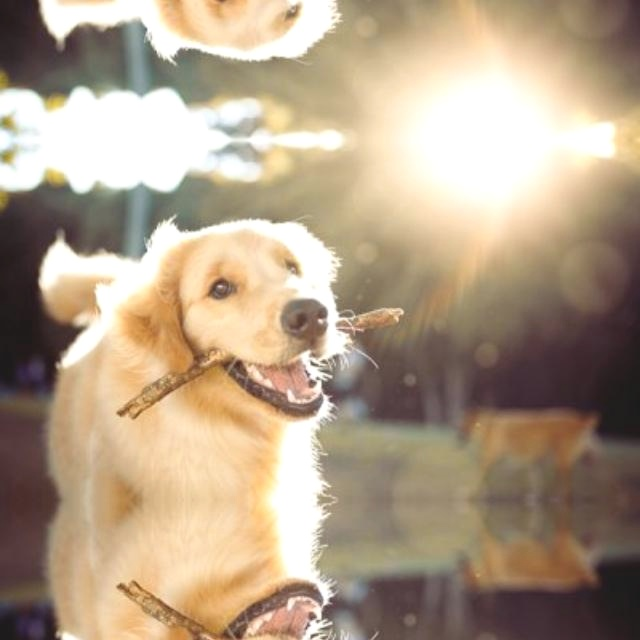dog: (151, 205, 383, 420), (151, 0, 383, 75), (151, 580, 383, 640)
